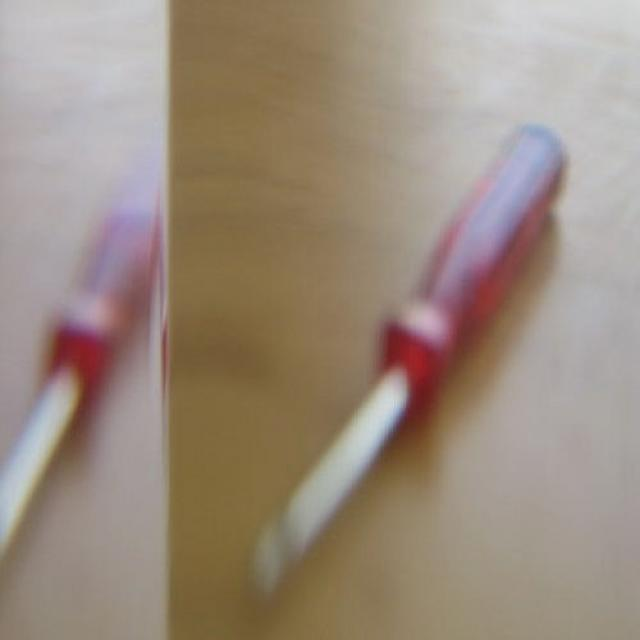screwdriver: (222, 108, 571, 610)
